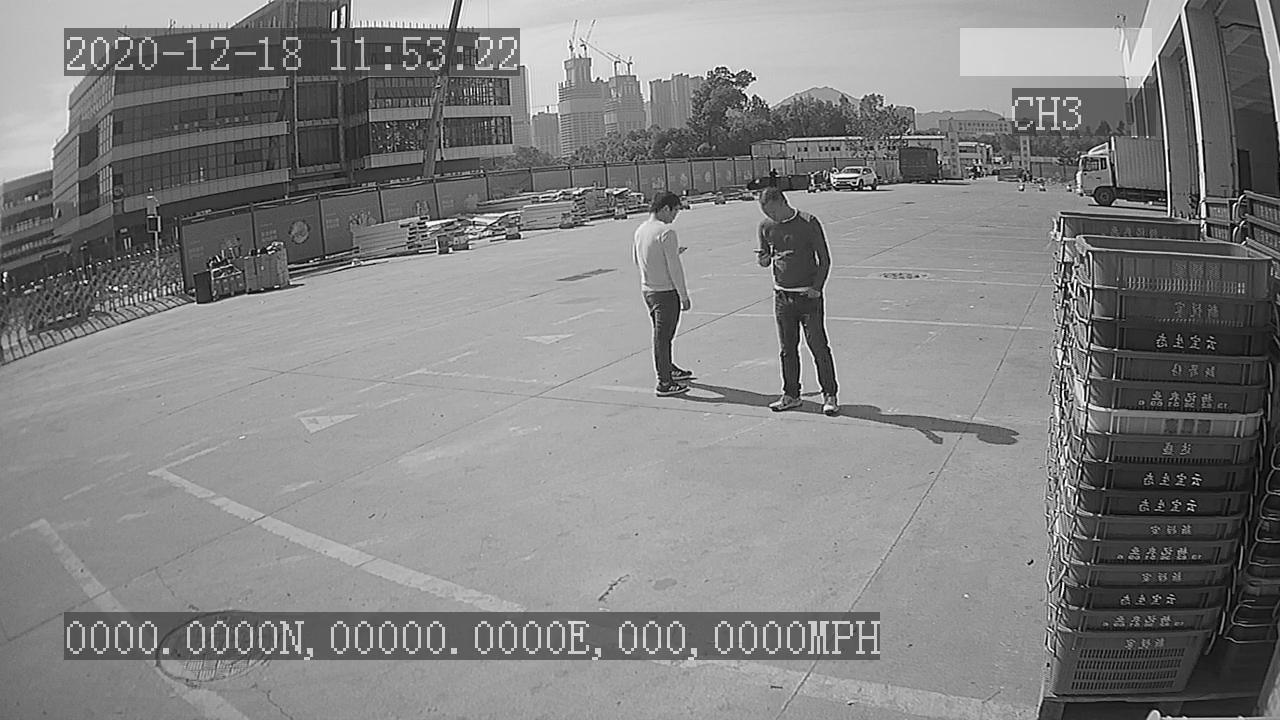person: (742, 179, 854, 417), (620, 186, 706, 404)
